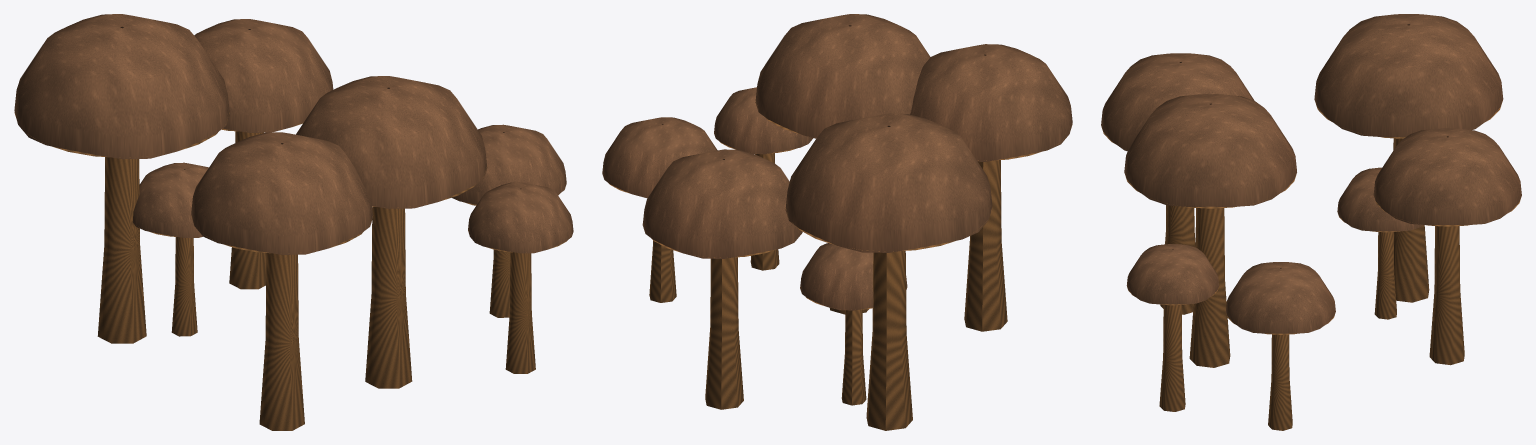
Rendered from WoodlandCaps_C.fbx.
3 views of the same model, side by side, from view 1: azimuth 30°, elevation 25°; view 2: azimuth 150°, elevation 25°; view 3: azimuth 270°, elevation 25° (orthographic). The views are drawn at different scales.
Parts seen in each view (by area): view 1: WoodlandCaps_C_LOD0; view 2: WoodlandCaps_C_LOD0; view 3: WoodlandCaps_C_LOD0.
Boxes of the visible parts, box(x1,y1,x2,y2) form: WoodlandCaps_C_LOD0: box(14, 14, 573, 430); WoodlandCaps_C_LOD0: box(602, 14, 1072, 430); WoodlandCaps_C_LOD0: box(1101, 14, 1521, 430).
Size of what is drawn, in the model's own units: 16.93 by 10.87 by 15.43.
Materials: 1 (1 with a texture image).
